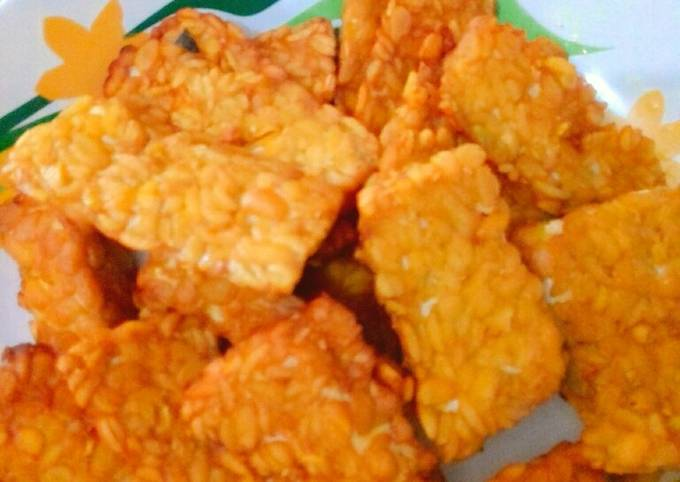Tempe: (69, 89, 384, 250), (366, 188, 540, 432), (447, 34, 615, 221)
